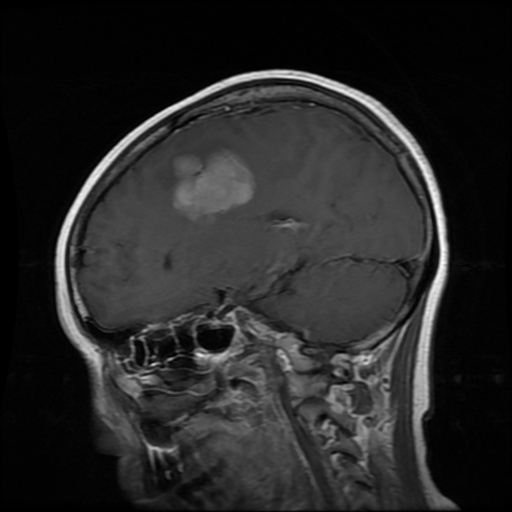meningioma: (171, 146, 256, 223)
